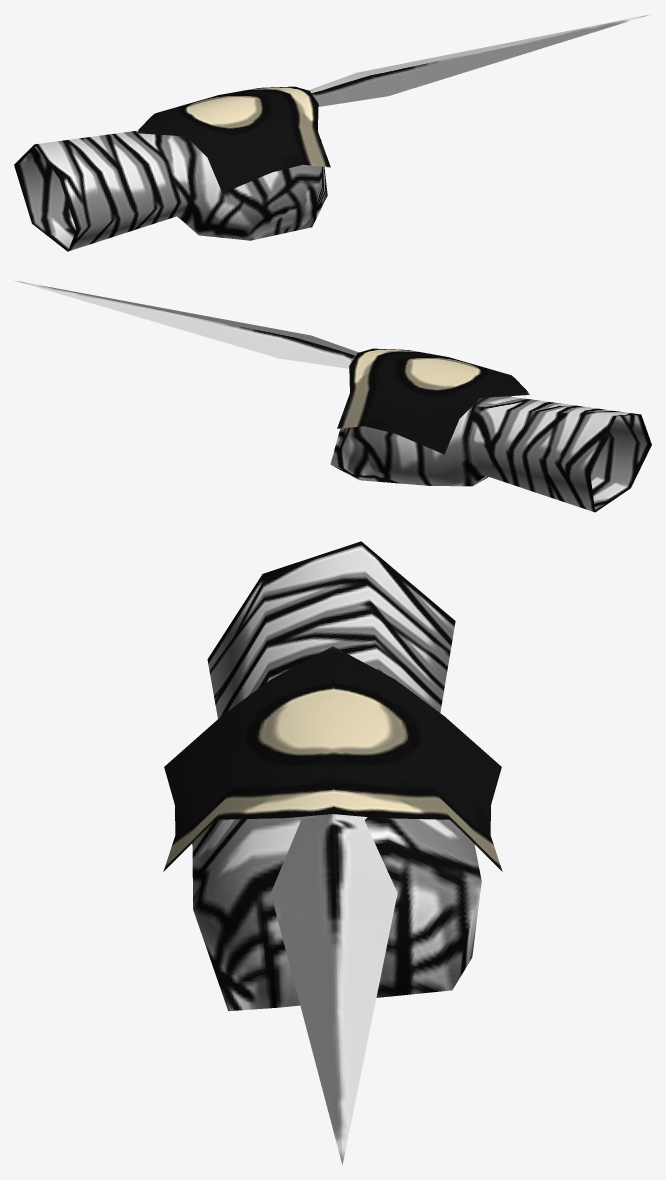
Rendered from WP_0H_Claw03.FBX.
The picture shows the model from 3 angles, top to bottom: view 1: azimuth 30°, elevation 25°; view 2: azimuth 150°, elevation 25°; view 3: azimuth 270°, elevation 25°; orthographic projection. The views are drawn at different scales.
Visible parts, largest first — view 1: WP_0H_Claw03; view 2: WP_0H_Claw03; view 3: WP_0H_Claw03.
Boxes of the visible parts, <box> form: WP_0H_Claw03: <box>14,14,649,251</box>; WP_0H_Claw03: <box>15,280,651,512</box>; WP_0H_Claw03: <box>163,541,502,1165</box>.
Size of the model in its own units: 103 by 19.09 by 24.97.
